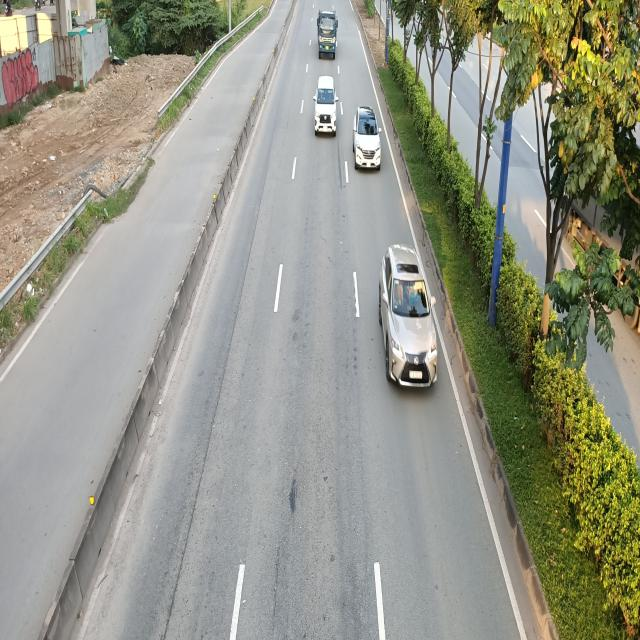car: (381, 246, 438, 392), (351, 105, 382, 171), (312, 78, 338, 136)
truck: (316, 8, 338, 59)
